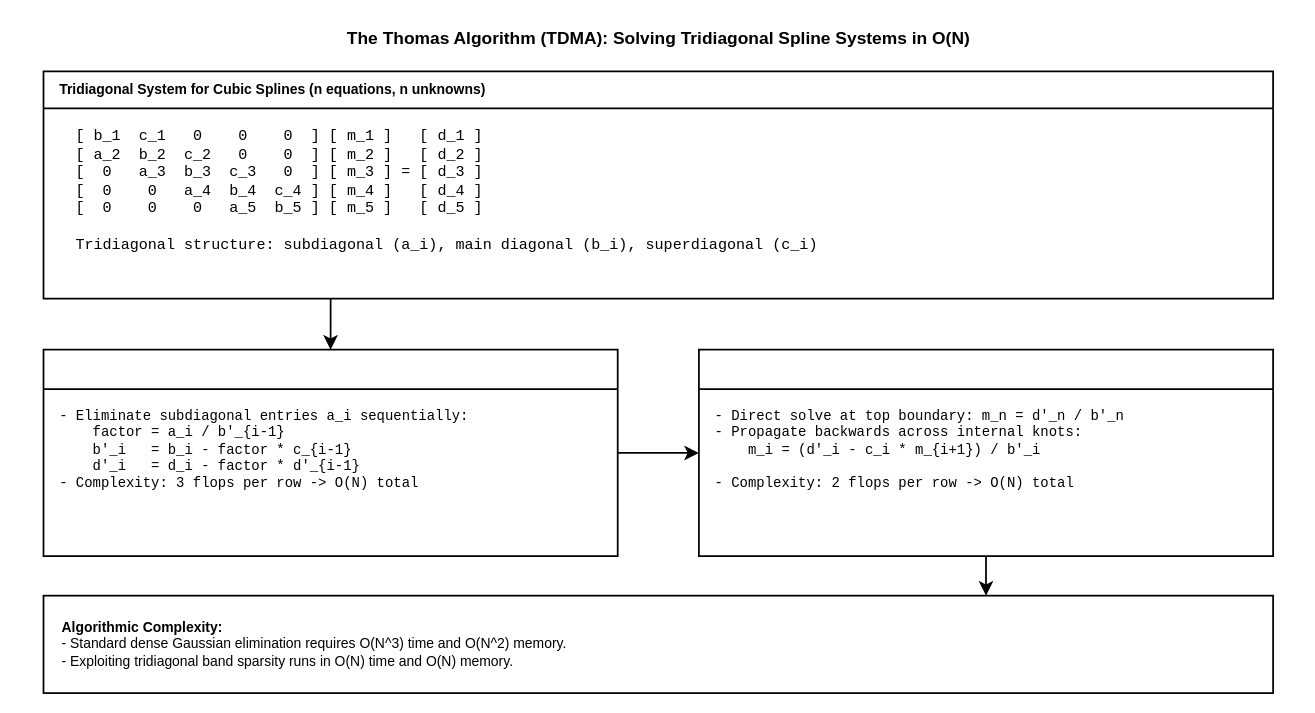
Some shapes in this 1315 by 713 pixel diagram are drawn without their labels. The box of each missing label's shape, as (x1, y1, x2, y2) in pixels:
Step 1: Forward Elimination (i = 2 to n): (42, 348, 618, 557)
Step 2: Back Substitution (i = n down to 1): (698, 348, 1273, 557)
